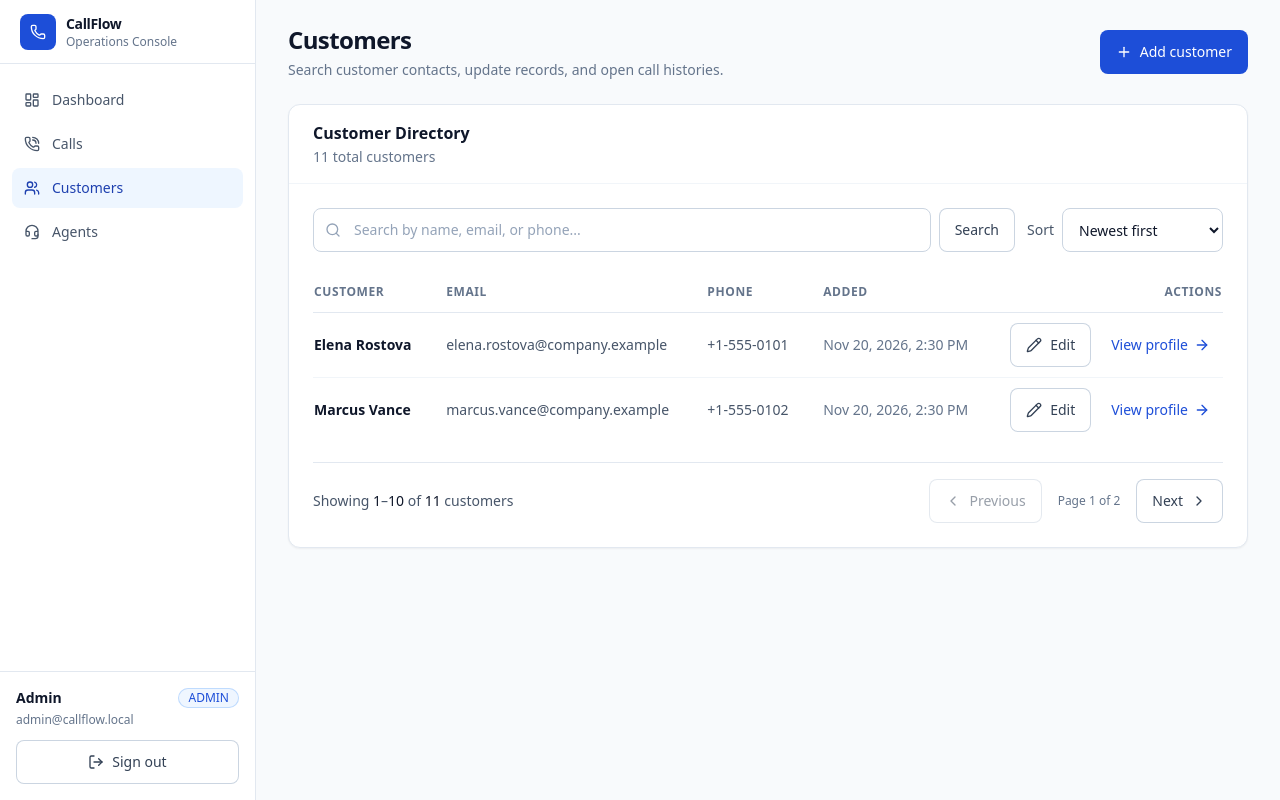
Test case: CustomersPage › lists paginated customers, supports search & clear search, and switches pages
Expected: the heading "Customers" is shown, [288,23,411,56]
Expected: the link "Elena Rostova" is shown, [314,335,411,354]
Click the button with aria-label "Next page".
click(1180, 501)  # box [1136,479,1223,523]
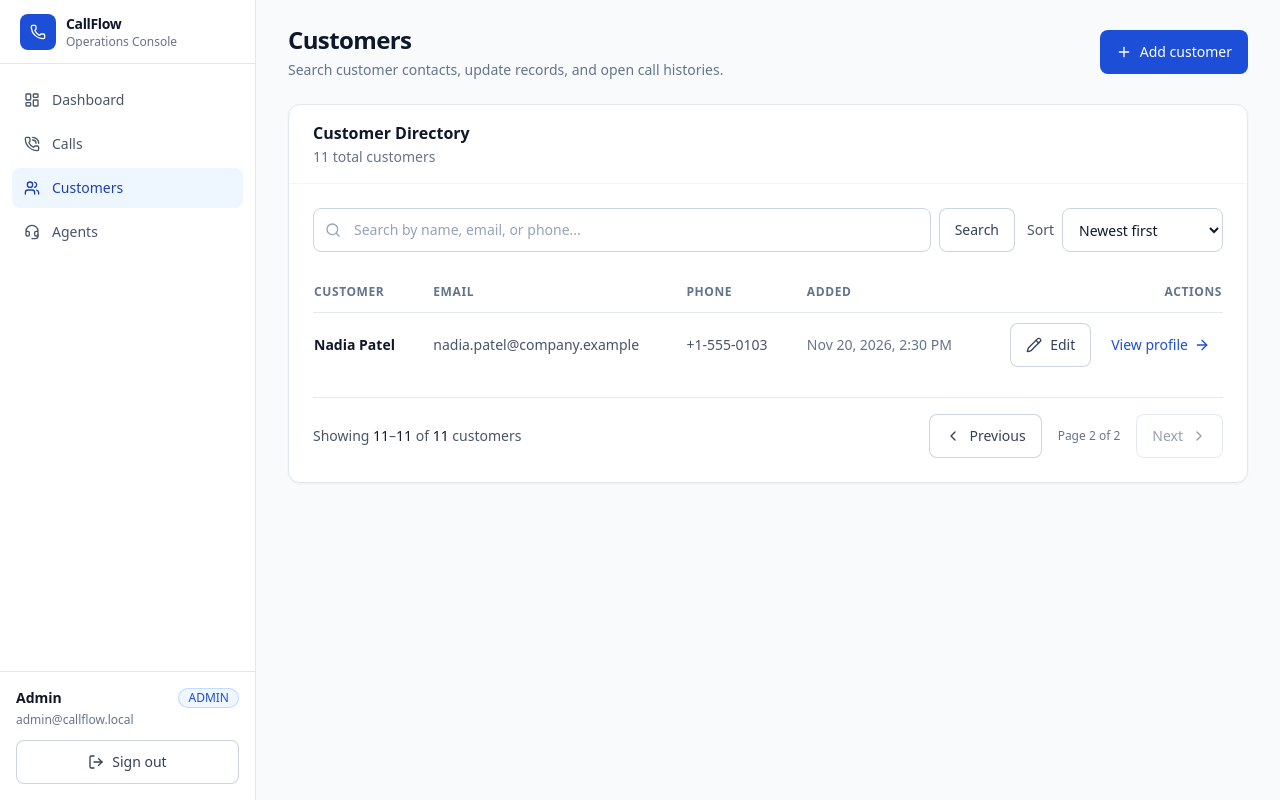
Expected: the link "Nadia Patel" is shown, [314,335,395,354]
Type "marcus" into the search field named "Search customers".
click(622, 230); type("marcus")  # box [313,208,931,252]
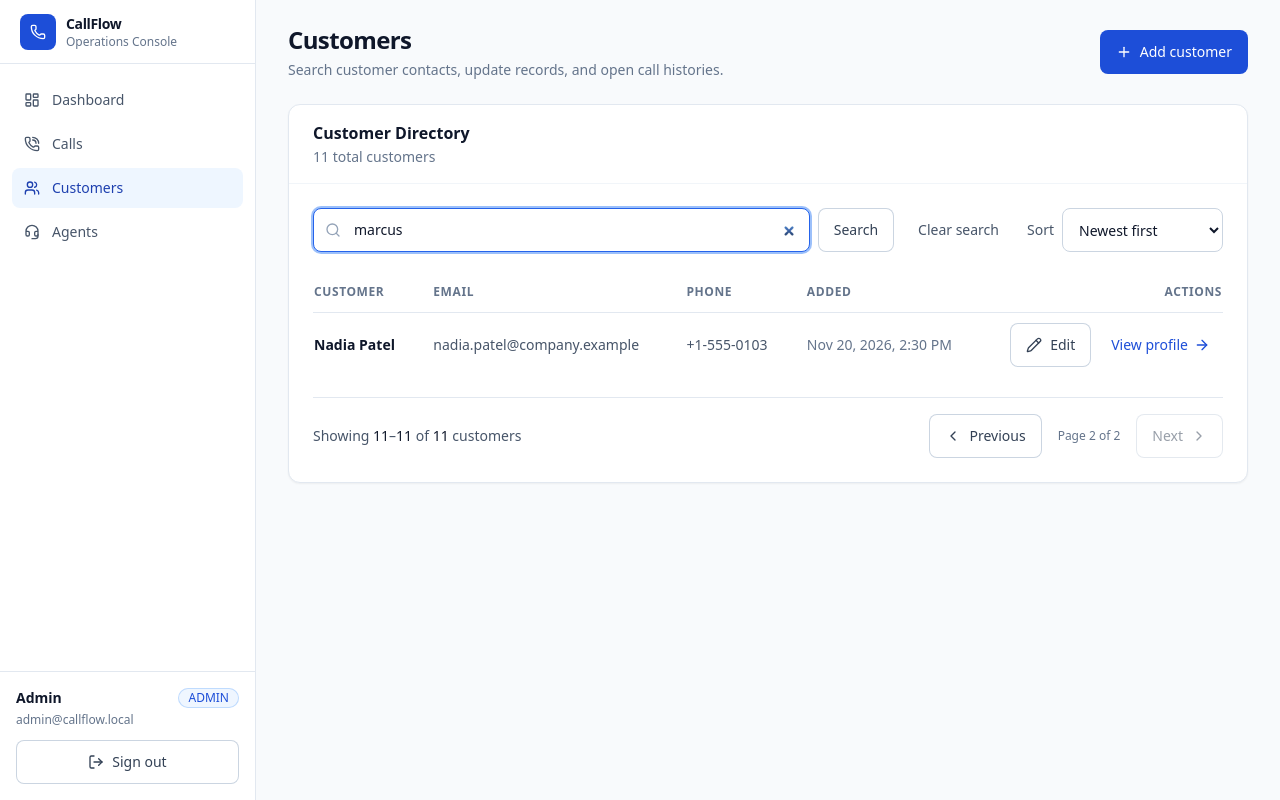
Click the button "Search".
click(856, 230)  # box [818,208,894,252]
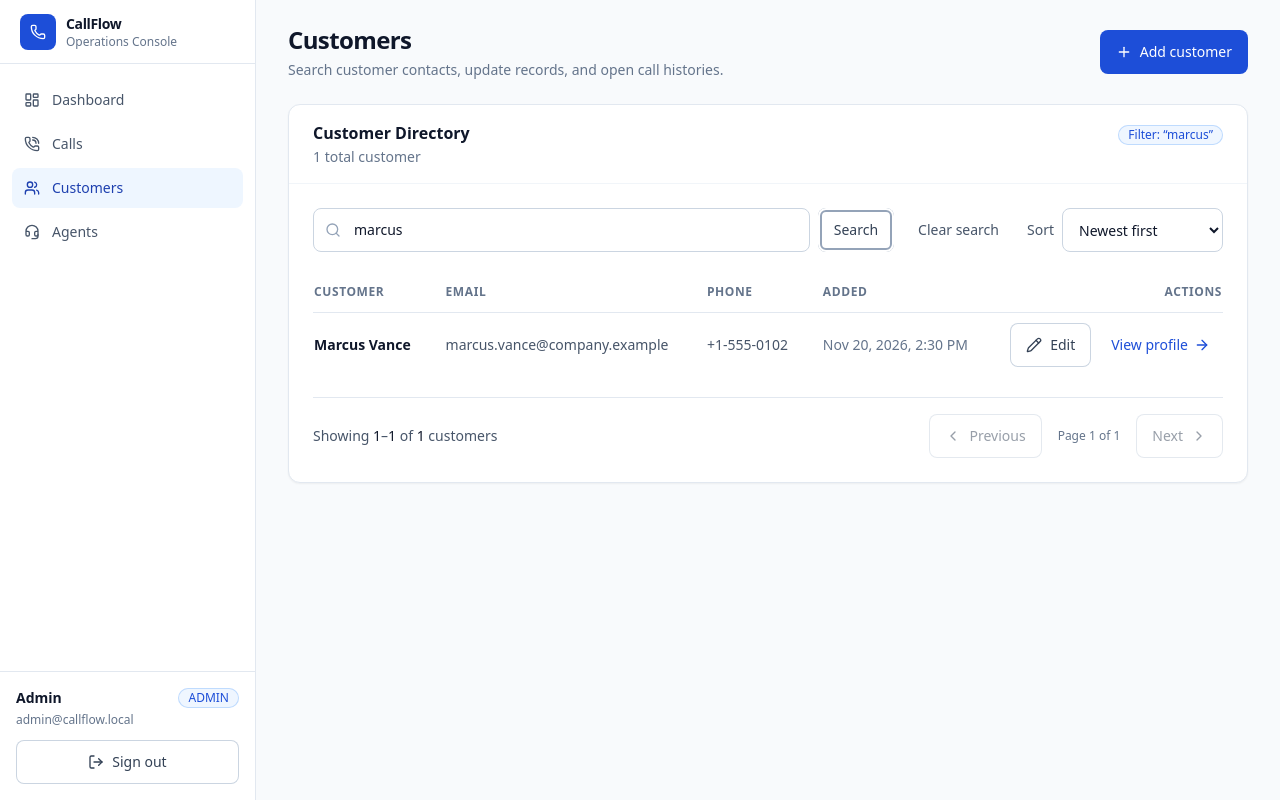
Expected: the link "Elena Rostova" is not shown
Expected: the link "Marcus Vance" is shown, [314,335,411,354]
Click the button "Clear search".
click(958, 230)  # box [902,208,1015,252]
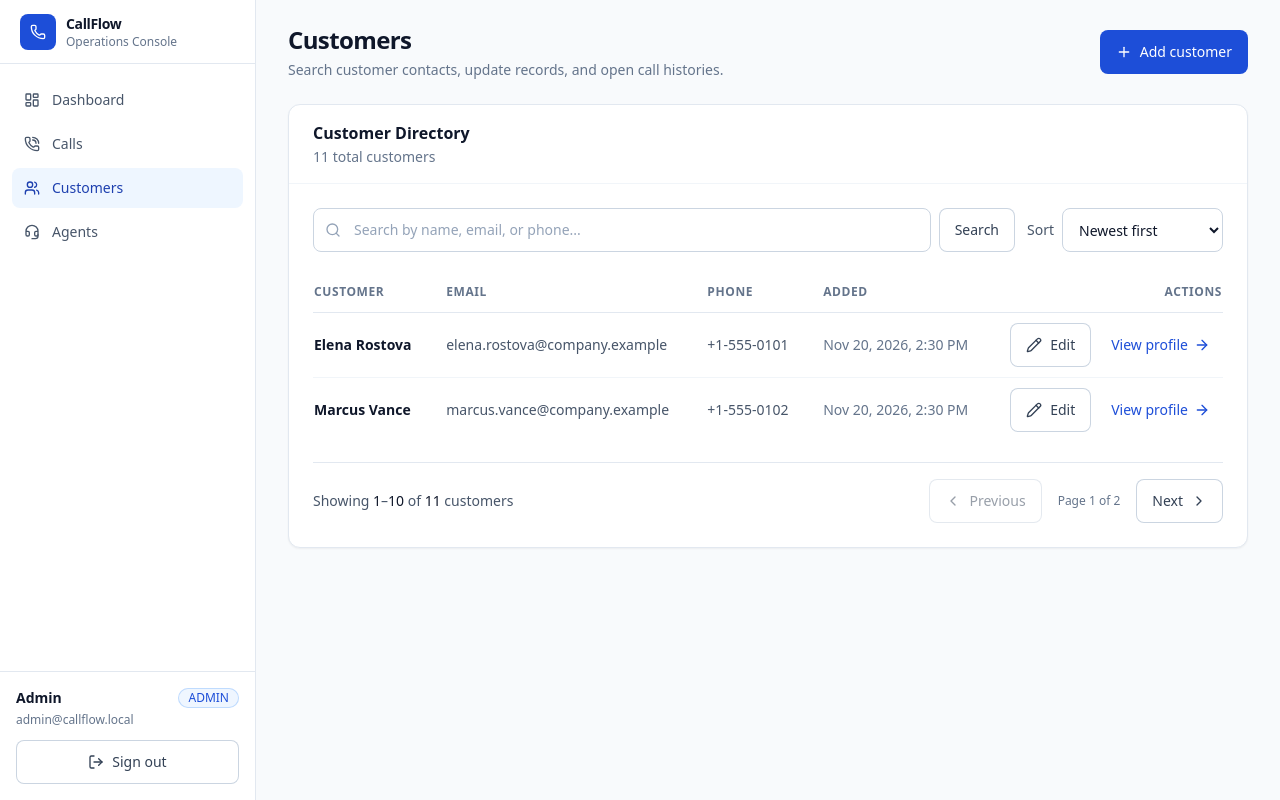
Expected: the link "Elena Rostova" is shown, [314,335,411,354]
